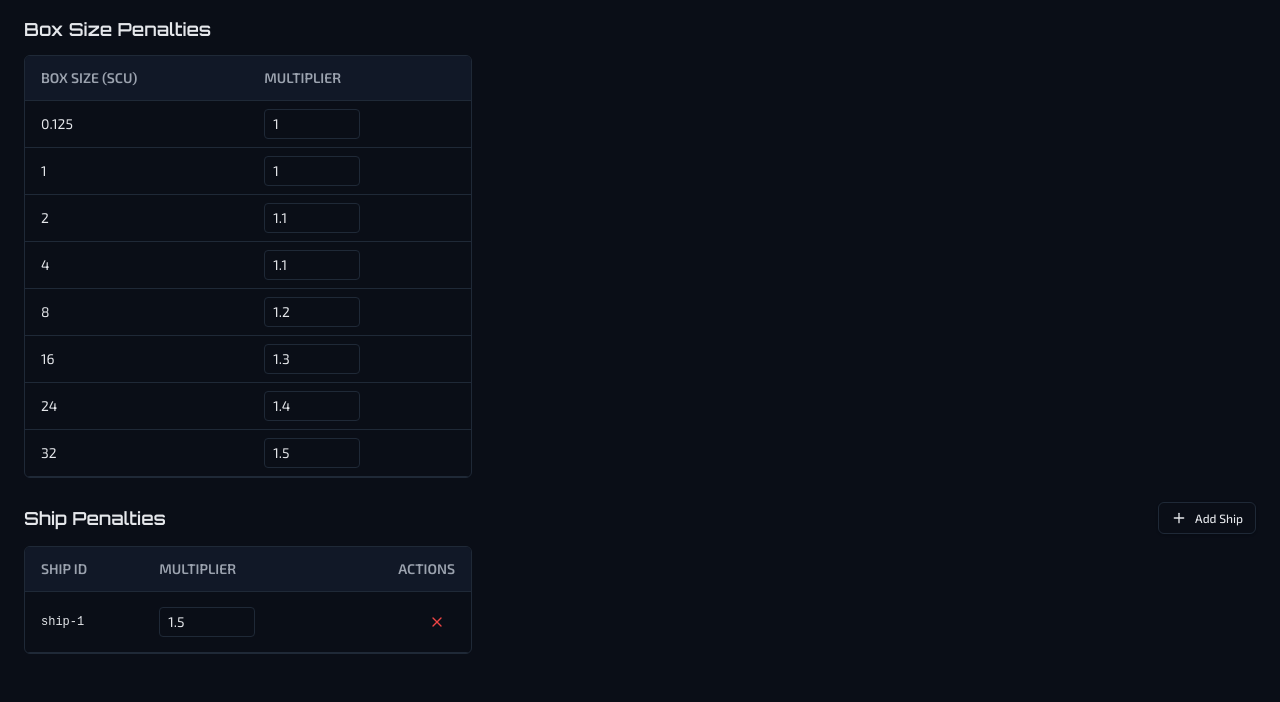
Scenario: PenaltyConfigPage › remove button removes ship penalty from list
(page scrolled)
Click the button named "Remove ship penalty ship-1" at (437, 622), box [419,604,455,640]
(page scrolled)
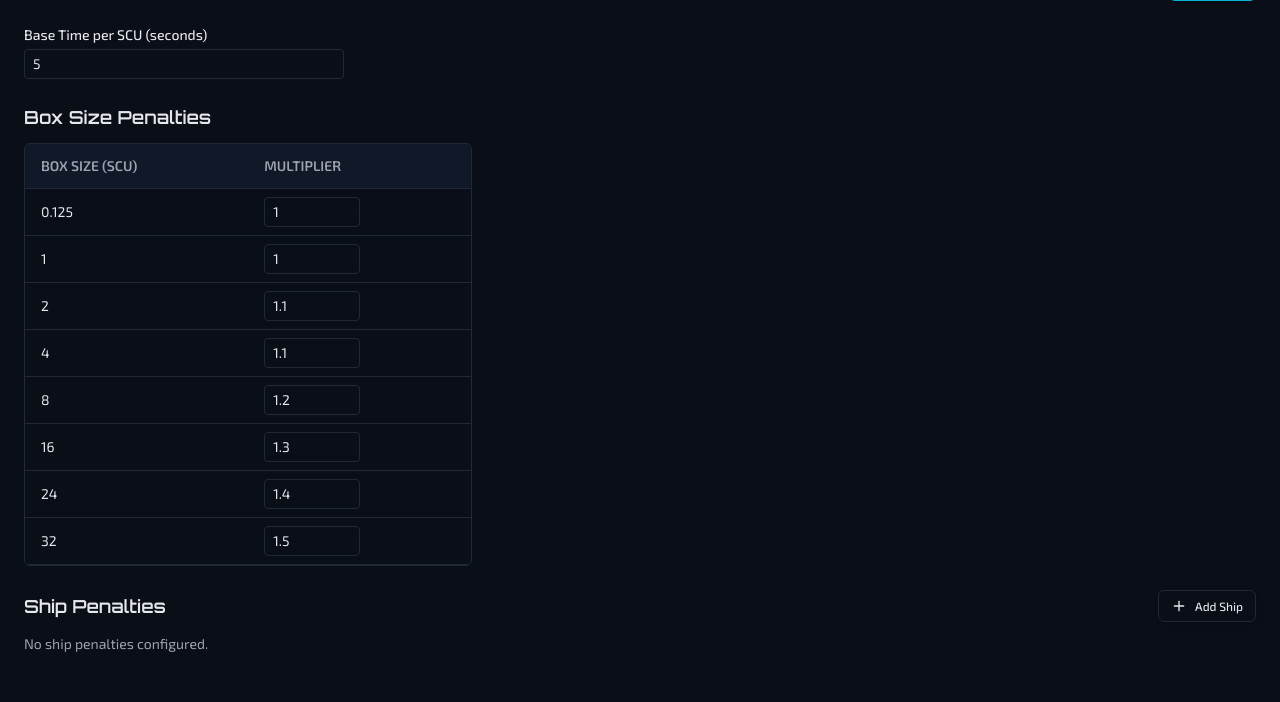
Check: the text "ship-1" is gone
